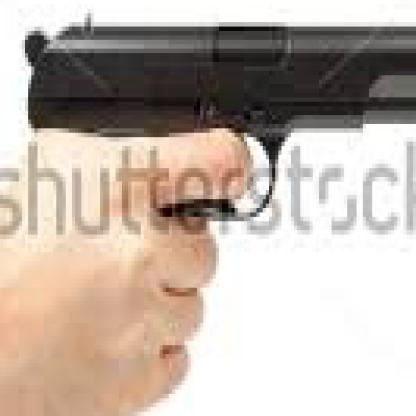gun: (9, 18, 413, 256)
